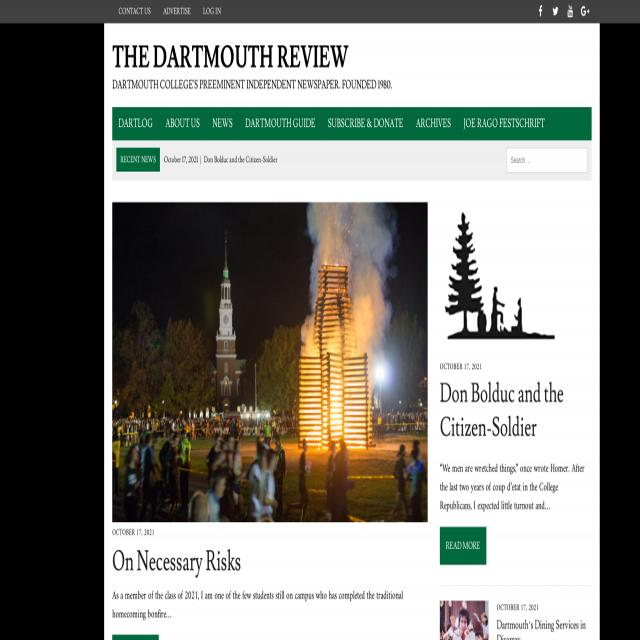button: (112, 202, 427, 522), (440, 202, 562, 356), (457, 107, 551, 141), (322, 107, 409, 141), (239, 107, 321, 141), (439, 598, 488, 640), (439, 526, 486, 565), (159, 107, 206, 141), (409, 107, 456, 141), (113, 107, 159, 141), (206, 107, 239, 141), (116, 148, 160, 172), (112, 0, 156, 23), (157, 0, 196, 23), (197, 0, 227, 23), (111, 633, 158, 640), (549, 1, 563, 17), (578, 1, 592, 17), (534, 1, 547, 17), (564, 1, 576, 17)
field: (507, 148, 588, 173)
